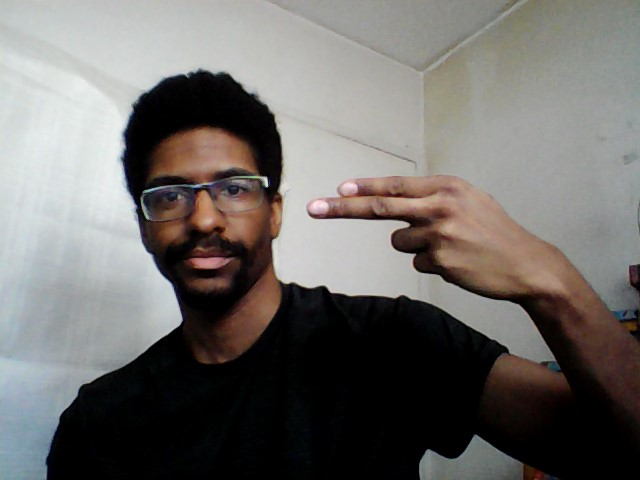h: (300, 172, 564, 298)
